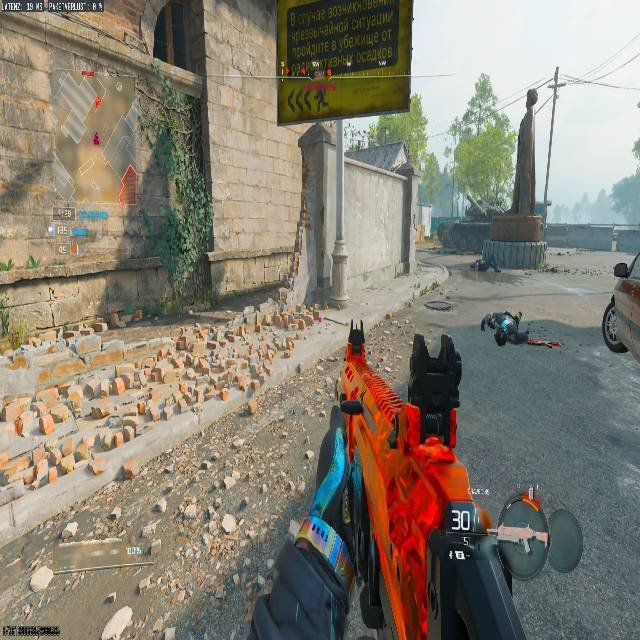player: (481, 309, 522, 347)
